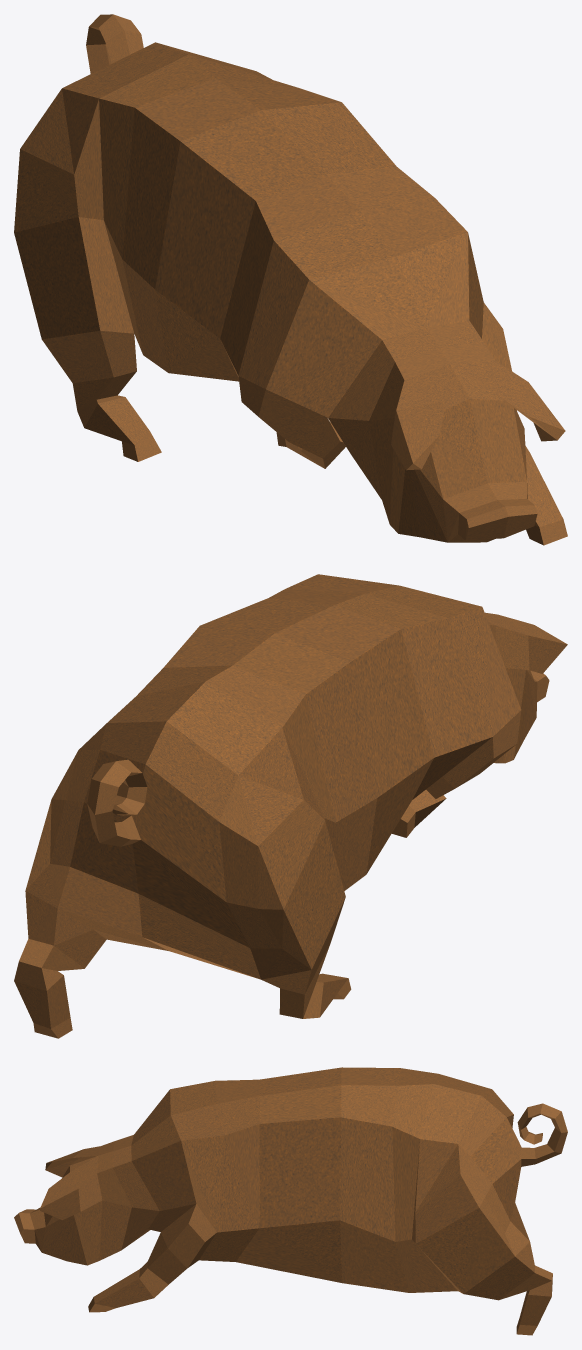
Rendered from Pig_000010.obj.
3 views of the same model, one above another, from view 1: azimuth 30°, elevation 25°; view 2: azimuth 150°, elevation 25°; view 3: azimuth 270°, elevation 25° (orthographic). The views are drawn at different scales.
Parts seen in each view (by area): view 1: Pig_Cylinder; view 2: Pig_Cylinder; view 3: Pig_Cylinder.
Part boxes in pixels (bbox=[...]): Pig_Cylinder: bbox=[14, 14, 567, 545]; Pig_Cylinder: bbox=[14, 574, 567, 1038]; Pig_Cylinder: bbox=[14, 1067, 567, 1335].
Size of the model in its own units: 3.33 by 4.23 by 9.64.
Materials: 1 (1 with a texture image).
